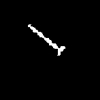half_double_crochet: (28, 25, 64, 54)
